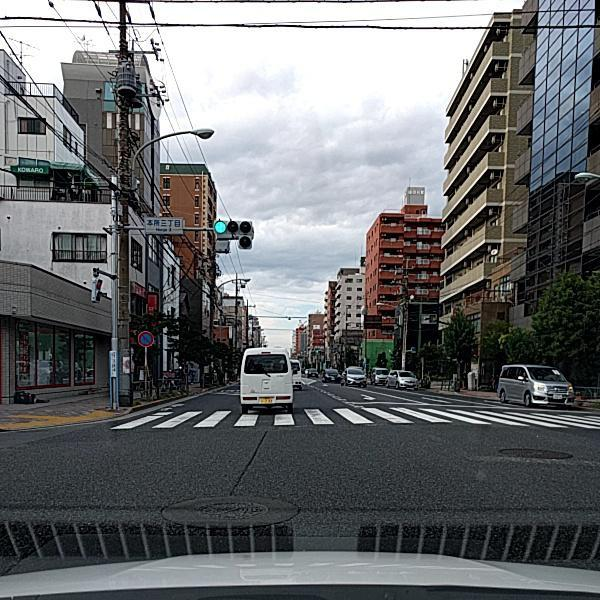D50: (195, 497, 267, 522), (498, 445, 568, 464)
